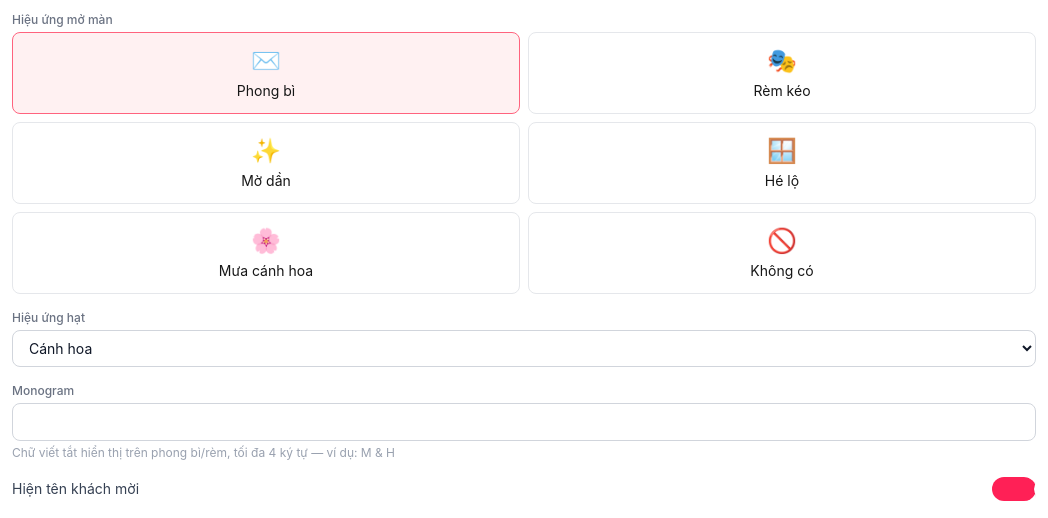
it: OpeningPanel › truncates the monogram to 4 characters
The width and height of the screenshot is (1048, 518).
In the field labelled "Monogram": (524, 422) [12,403,1036,441], type "MK & TH"
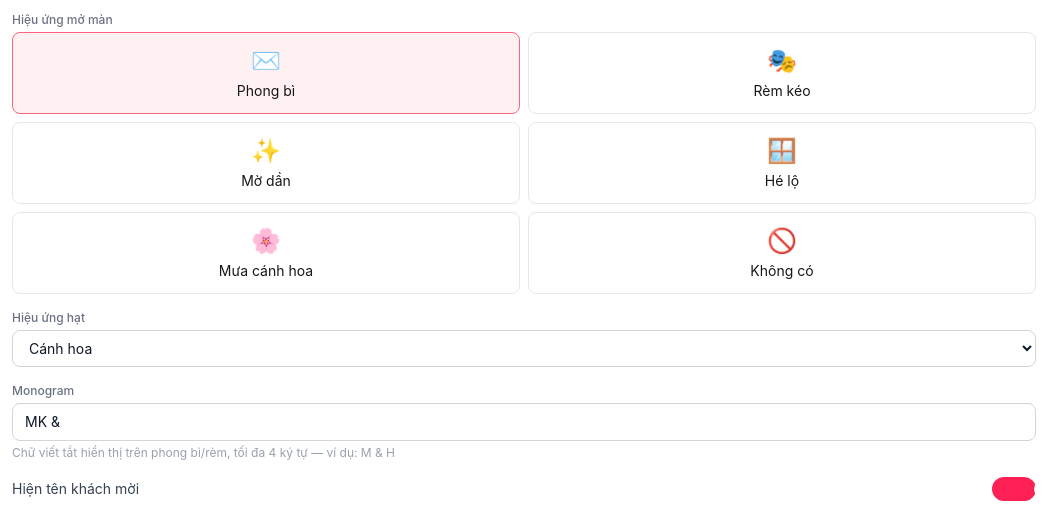
Check: the field labelled "Monogram" holds "MK &", box [12,403,1036,441]
